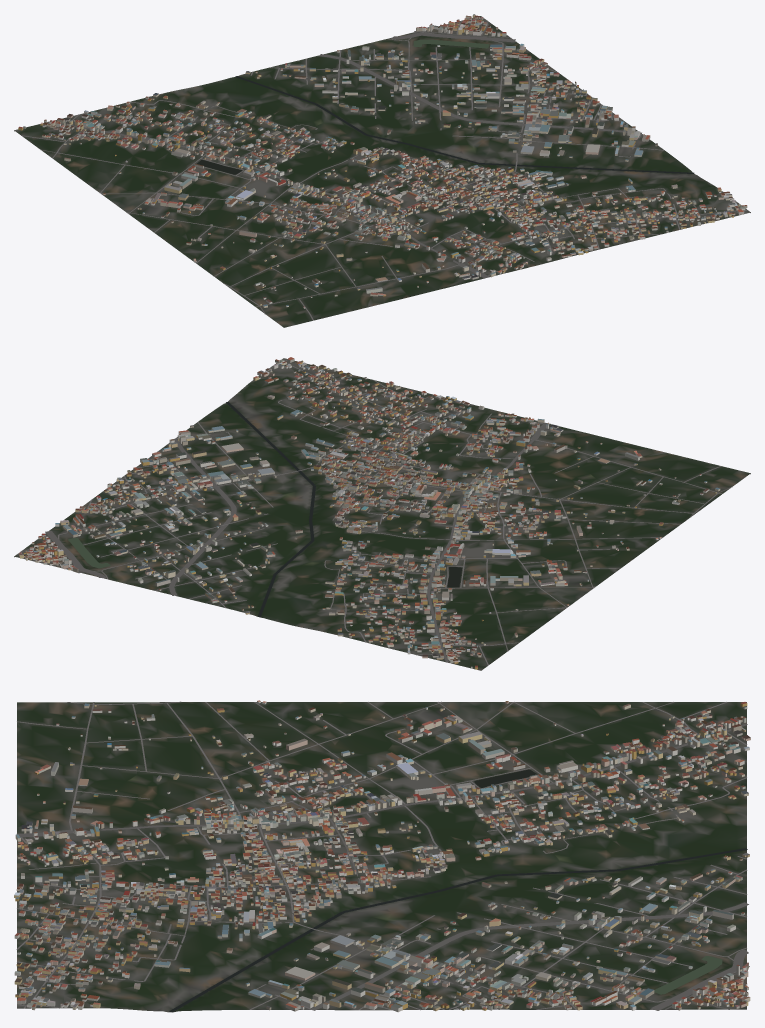
The picture shows the model from 3 angles, top to bottom: view 1: azimuth 30°, elevation 25°; view 2: azimuth 150°, elevation 25°; view 3: azimuth 270°, elevation 25°; orthographic projection. The views are drawn at different scales.
Parts seen in each view (by area): view 1: ground, buildings, roads, water; view 2: ground, buildings, roads, water; view 3: ground, buildings, roads, water.
Part boxes in pixels (x1,y1,x2,y2): ground: (14, 16, 750, 327); buildings: (18, 14, 747, 308); roads: (21, 20, 748, 320); water: (197, 39, 694, 174); ground: (14, 358, 750, 670); buildings: (19, 357, 720, 669); roads: (20, 360, 732, 665); water: (68, 401, 461, 616); ground: (17, 702, 746, 1012); buildings: (14, 700, 750, 1012); roads: (16, 701, 749, 1010); water: (169, 769, 747, 1012).
Bounding box in the file's own units: 1411 × 28.23 × 1415.
